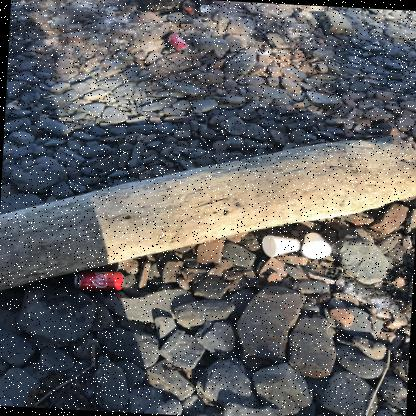Drink can: (74, 271, 125, 290), (166, 34, 188, 52), (182, 0, 196, 18), (196, 4, 211, 14)
Foam cup: (261, 235, 300, 257), (301, 232, 331, 259)
Pop tab: (182, 48, 187, 51)
Unlabeled litter: (258, 49, 270, 55)
